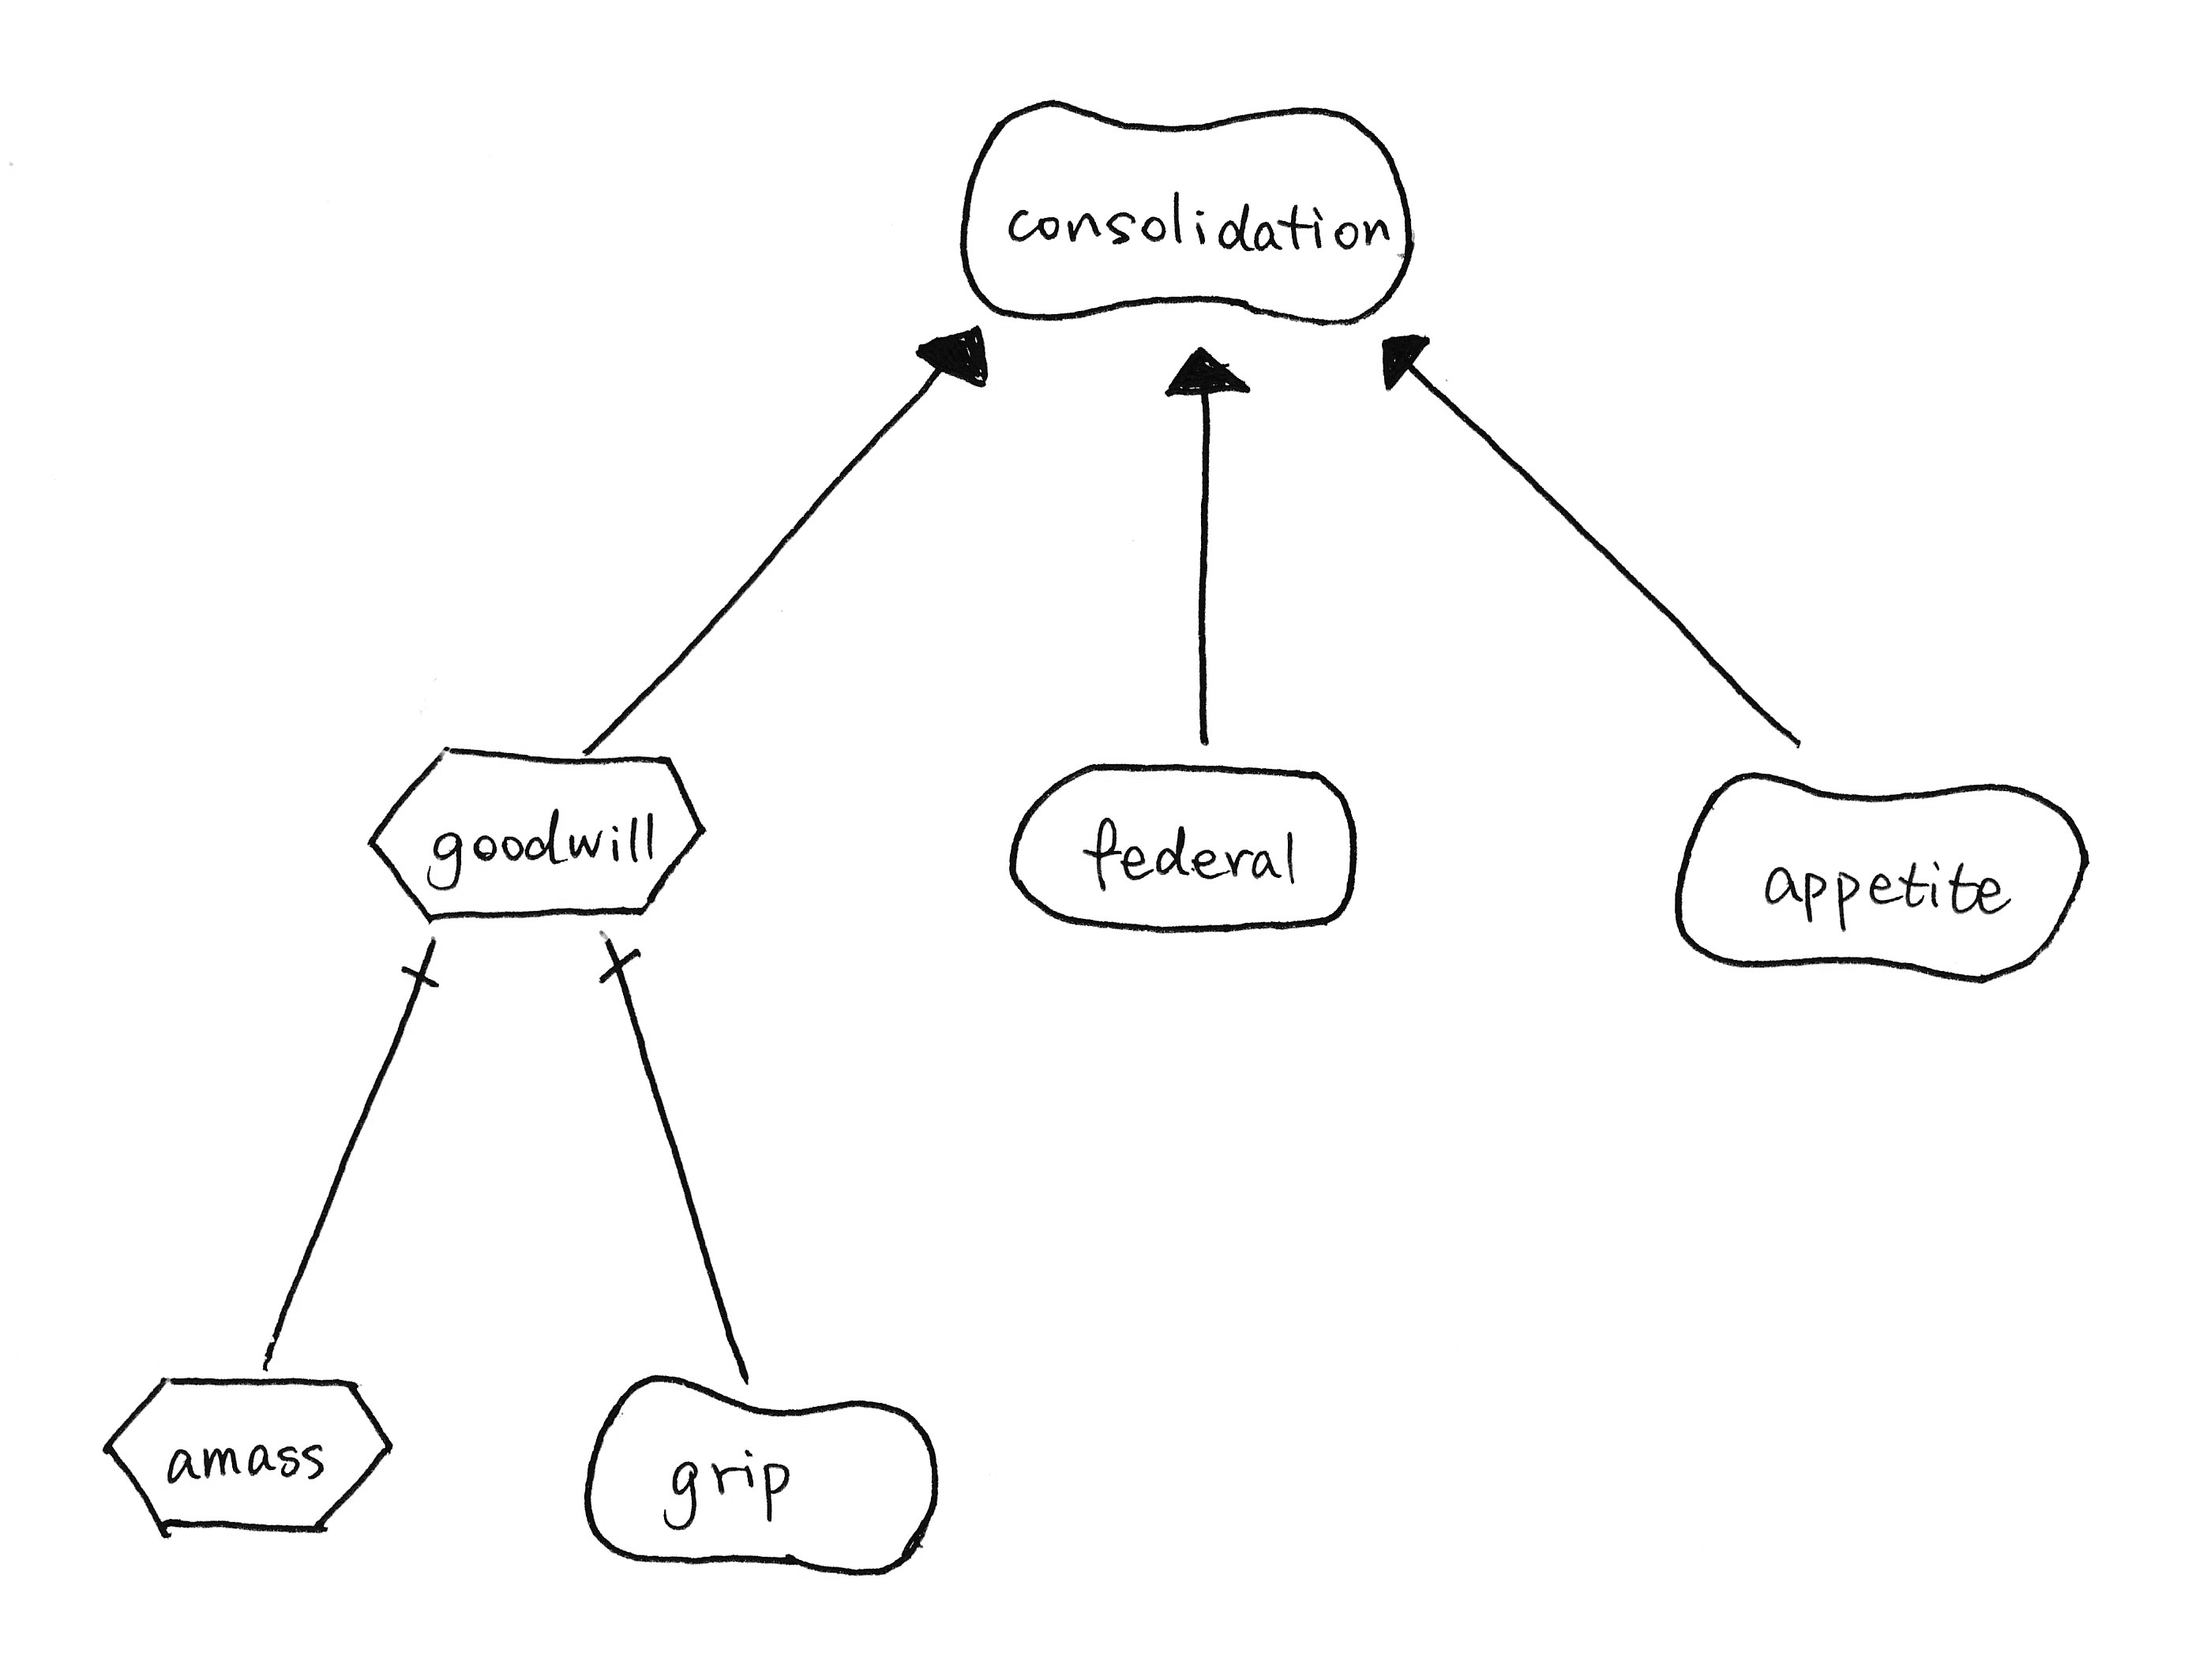and: (568, 909, 662, 997), (381, 921, 468, 1001)
goal: (988, 743, 1394, 960)
or: (1154, 330, 1260, 420), (910, 312, 1006, 406), (1360, 314, 1452, 404)
quality: (942, 74, 1434, 346), (1653, 746, 2108, 1006), (565, 1348, 967, 1597)
task: (342, 724, 723, 937), (83, 1357, 408, 1548)
